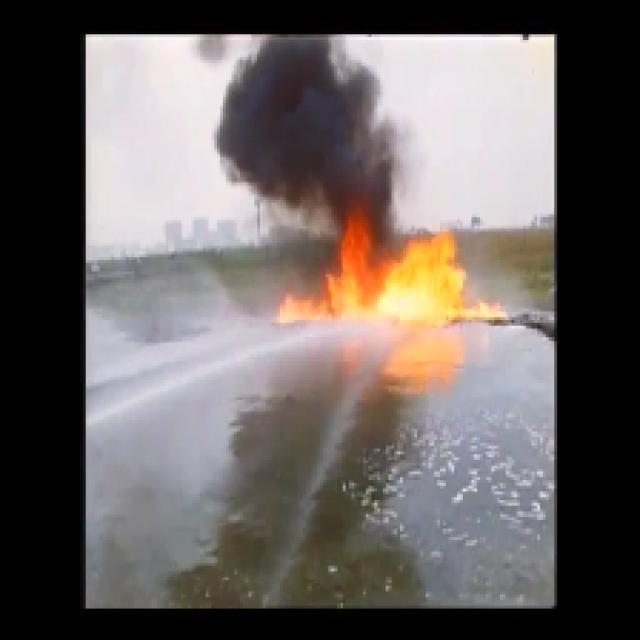Fire: (284, 225, 476, 324)
Smoke: (234, 60, 376, 194)
